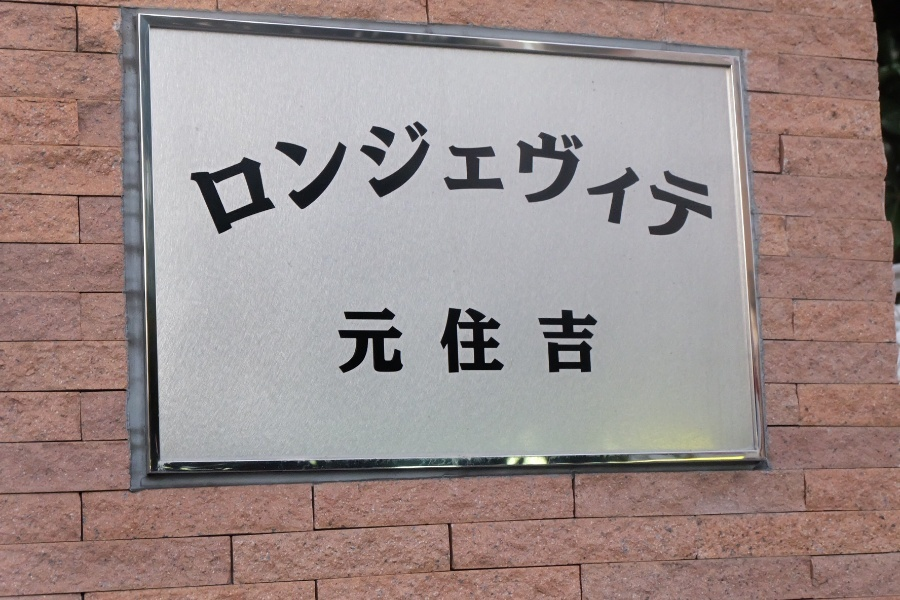text: (177, 115, 192, 241), (193, 115, 208, 241), (209, 115, 224, 241), (225, 115, 240, 241), (241, 115, 256, 241), (257, 115, 272, 241), (273, 115, 288, 241), (289, 115, 304, 241), (305, 115, 320, 241), (321, 115, 336, 241), (337, 115, 352, 241), (353, 115, 368, 241), (369, 115, 384, 241), (385, 115, 400, 241), (401, 115, 416, 241), (417, 115, 432, 241), (433, 115, 448, 241), (449, 115, 464, 241), (465, 115, 480, 241), (481, 115, 496, 241), (497, 115, 512, 241), (513, 115, 528, 241), (529, 115, 544, 241), (545, 115, 560, 241), (561, 115, 576, 241), (577, 115, 592, 241), (593, 115, 608, 241), (609, 115, 624, 241), (625, 115, 640, 241), (641, 115, 656, 241), (657, 115, 672, 241), (673, 115, 688, 241), (689, 115, 704, 241), (705, 115, 719, 241), (337, 309, 352, 376), (353, 309, 368, 376), (369, 309, 384, 376), (385, 309, 400, 376), (401, 309, 416, 376), (417, 309, 432, 376), (433, 309, 448, 376), (449, 309, 464, 376), (465, 309, 480, 376), (481, 309, 496, 376), (497, 309, 512, 376), (513, 309, 528, 376), (529, 309, 544, 376), (545, 309, 560, 376), (561, 309, 576, 376), (577, 309, 592, 376), (593, 309, 603, 376), (172, 115, 176, 241), (331, 309, 336, 376)
